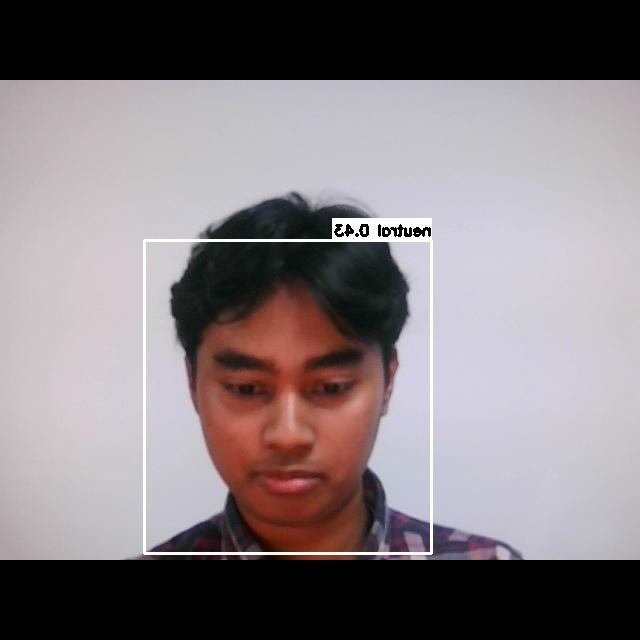Natural: (185, 318, 386, 505)
